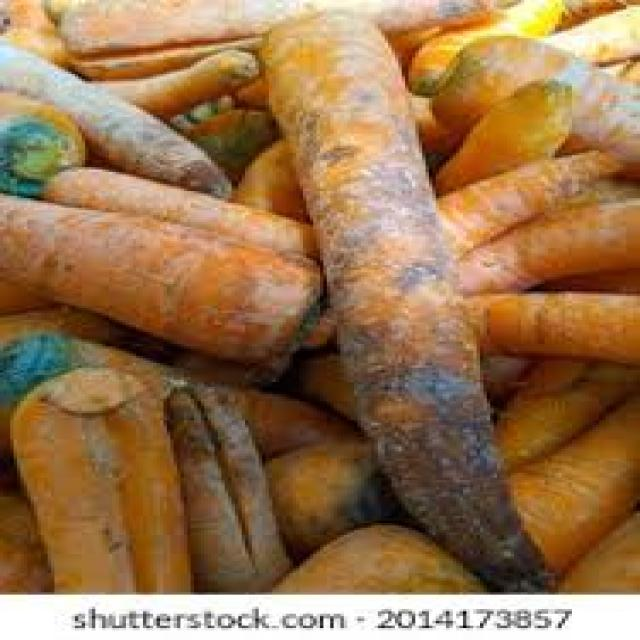Stale_Carrot: (251, 8, 573, 580), (4, 196, 329, 367), (162, 381, 305, 591)
